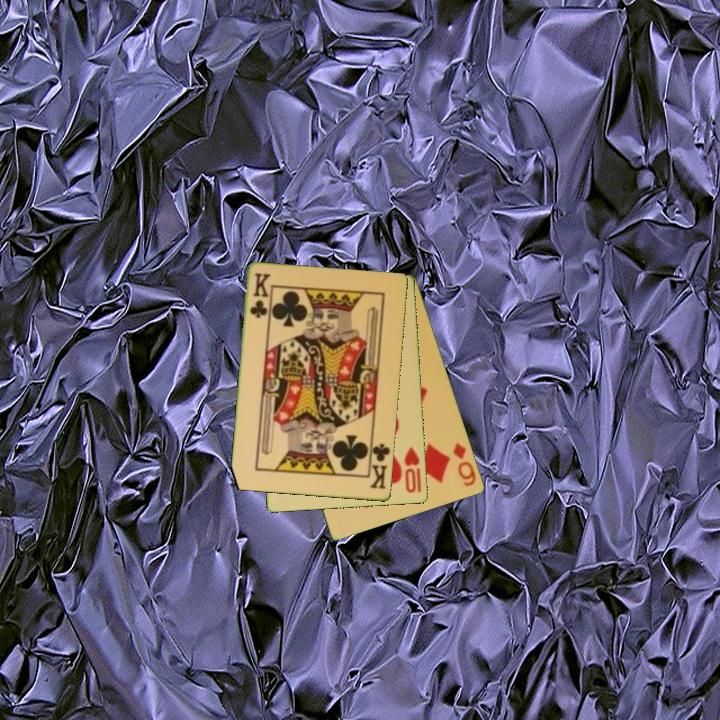10h: (401, 443, 424, 496)
6d: (450, 439, 479, 489)
Kc: (366, 438, 393, 492), (247, 270, 272, 321)
